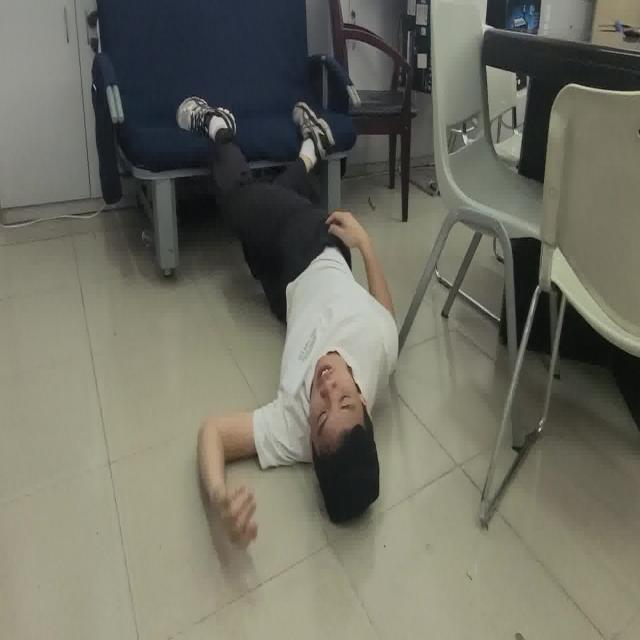Fall-Detected: (173, 89, 401, 550)
